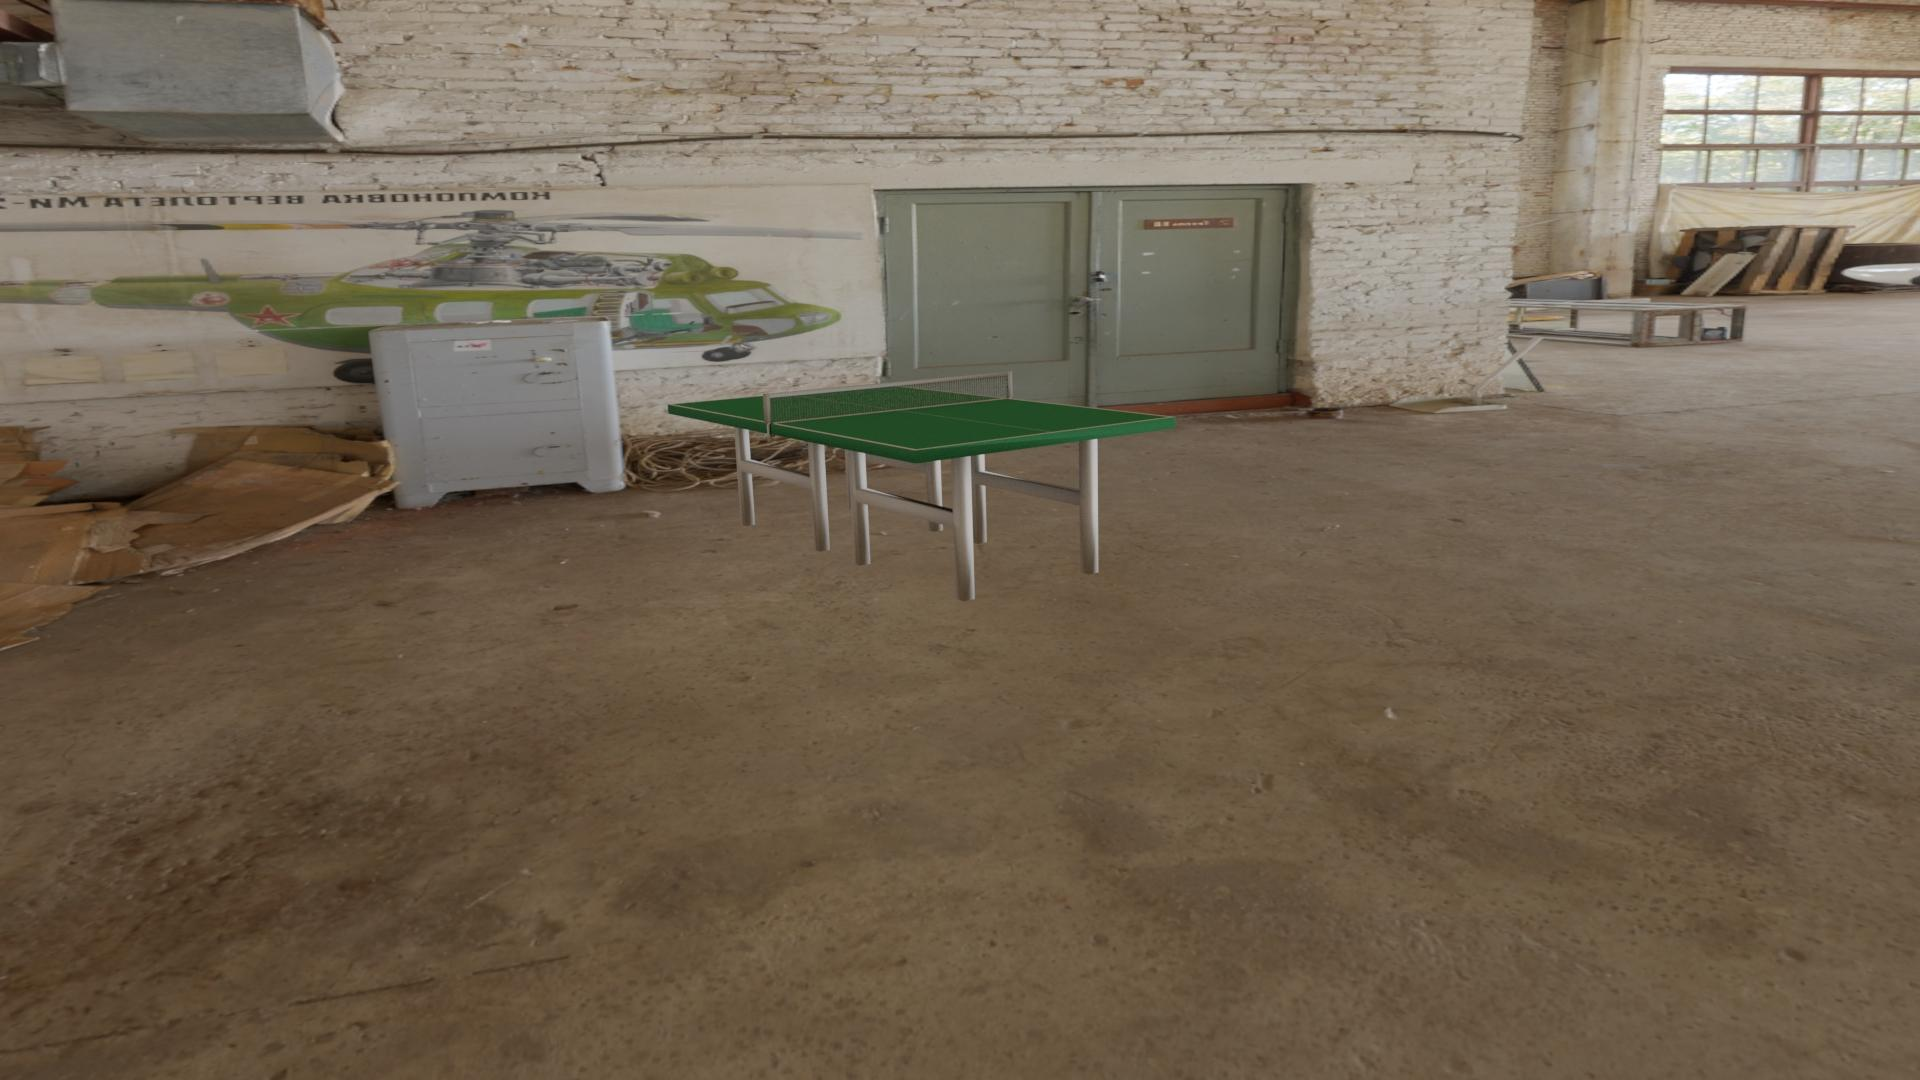table: (673, 385, 1170, 450)
